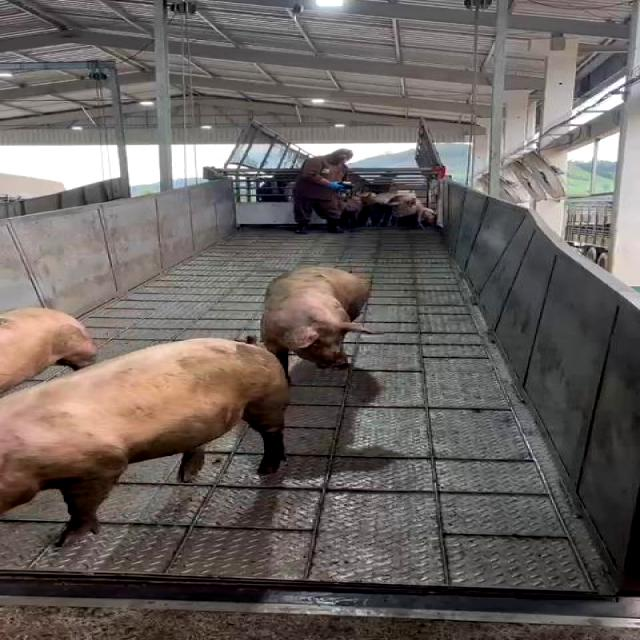pig: (0, 338, 288, 544), (262, 268, 371, 367)
